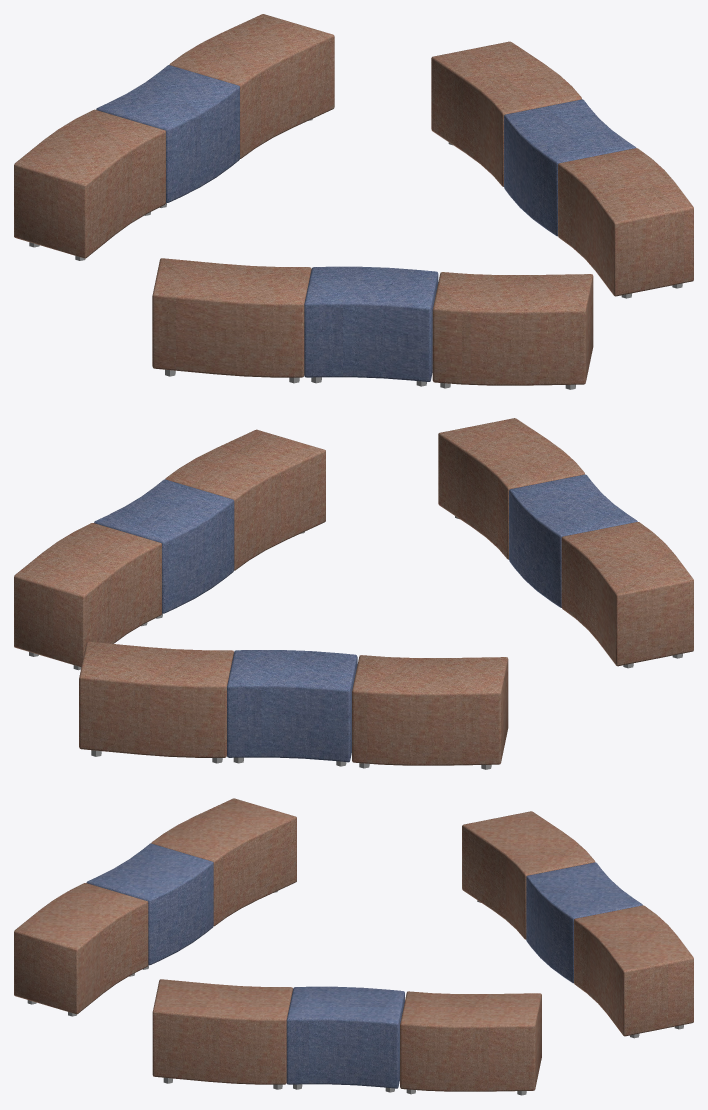
File: CK-shafa0001-CJBZ.FBX
3 renders of one model, top to bottom at view 1: azimuth 30°, elevation 25°; view 2: azimuth 150°, elevation 25°; view 3: azimuth 270°, elevation 25°, orthographic. The views are drawn at different scales.
Visible parts, largest first — view 1: CK-shafa0001-CJBZ; view 2: CK-shafa0001-CJBZ; view 3: CK-shafa0001-CJBZ.
Boxes of the visible parts, x1,y1,x2,y2 form: CK-shafa0001-CJBZ: (14, 14, 693, 389); CK-shafa0001-CJBZ: (14, 418, 693, 769); CK-shafa0001-CJBZ: (14, 798, 693, 1095).
Size of the model in its own units: 4.14 by 0.6233 by 5.2.
Materials: 3 (2 with a texture image).
